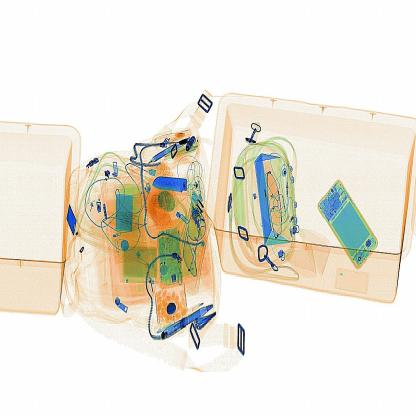wrench: (143, 167, 196, 198)
